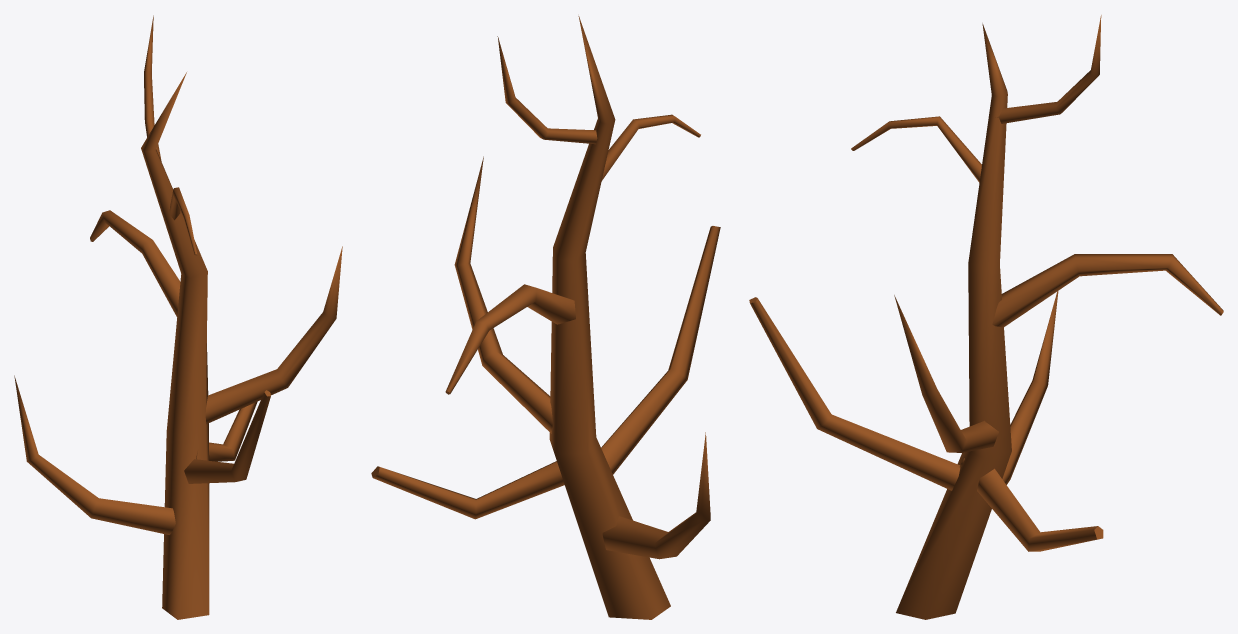
Rendered from TrunkG.fbx.
The picture shows the model from 3 angles, left to right: view 1: azimuth 30°, elevation 25°; view 2: azimuth 150°, elevation 25°; view 3: azimuth 270°, elevation 25°; orthographic projection. The views are drawn at different scales.
Visible parts, largest first — view 1: TrunkG; view 2: TrunkG; view 3: TrunkG.
Boxes of the visible parts, x1,y1,x2,y2 form: TrunkG: [14, 15, 342, 619]; TrunkG: [371, 16, 720, 619]; TrunkG: [749, 15, 1223, 619].
Size of the model in its own units: 254 by 482 by 335.
